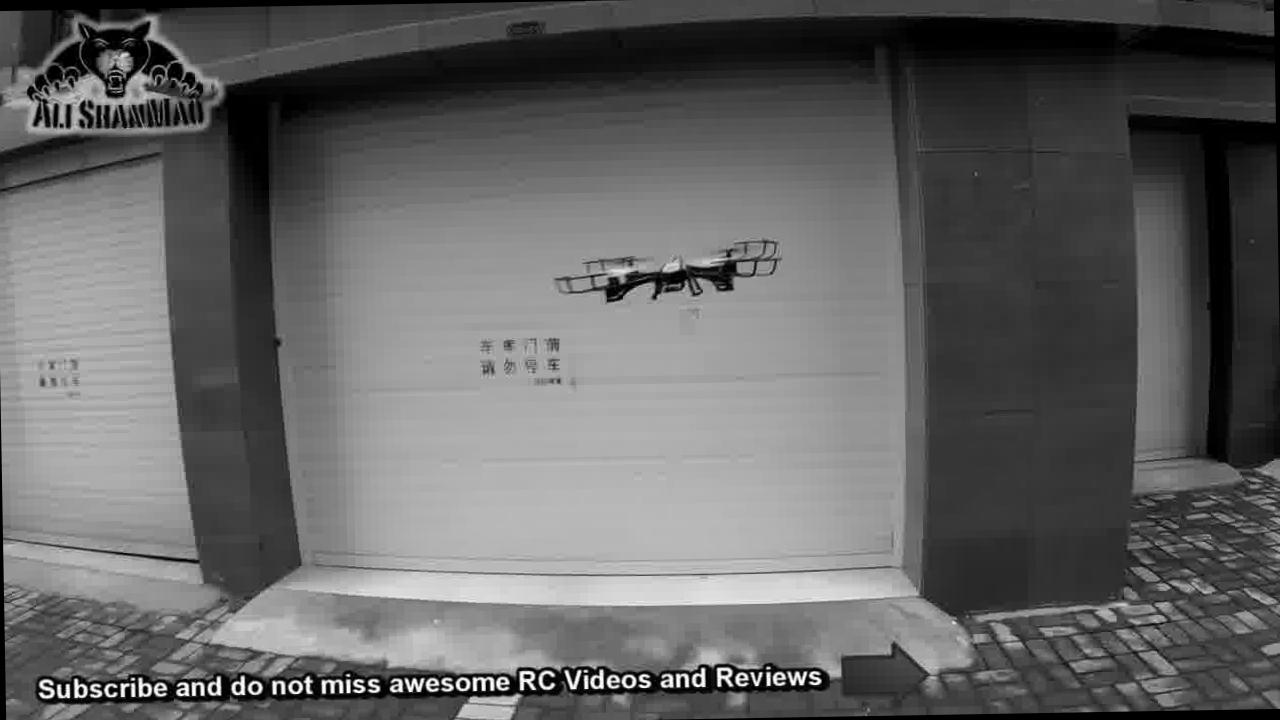drone: (546, 226, 771, 320)
